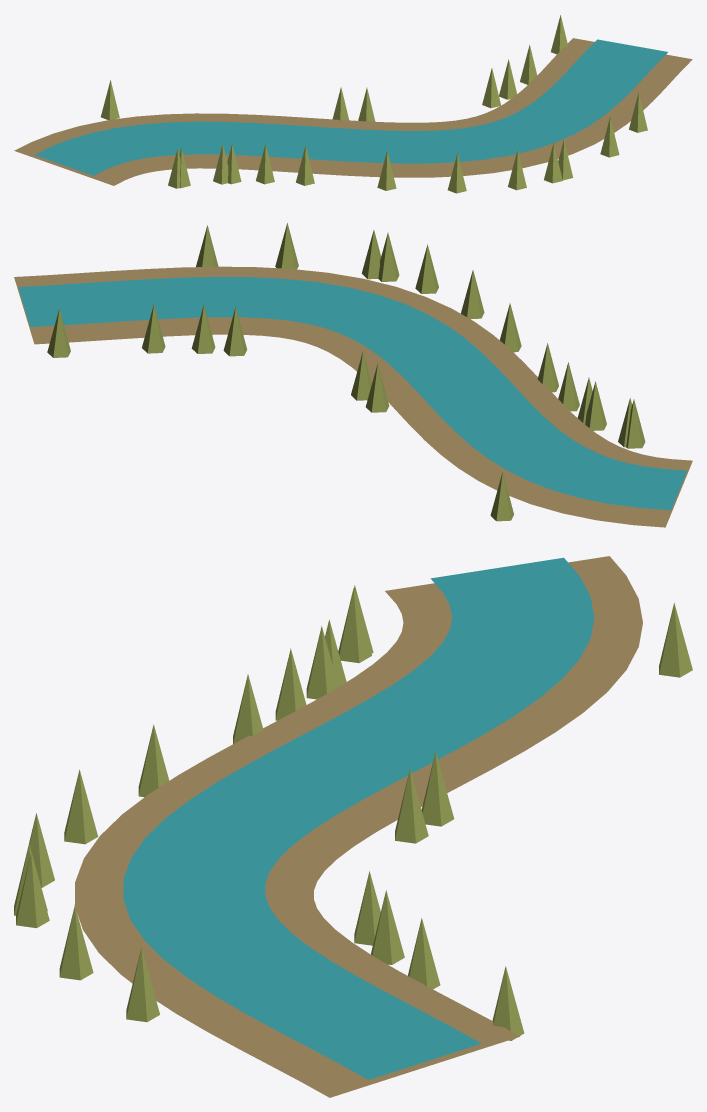
File: FEATURE_FLOODPLAINS_PLAINS_v01.fbx
The picture shows the model from 3 angles, top to bottom: view 1: azimuth 30°, elevation 25°; view 2: azimuth 150°, elevation 25°; view 3: azimuth 270°, elevation 25°; orthographic projection. The views are drawn at different scales.
Parts seen in each view (by area): view 1: River_channel.007, Alluvial_banks.007, Riparian_grass.147, Riparian_grass.142, Riparian_grass.149, Riparian_grass.153, Riparian_grass.150, Riparian_grass.159, Riparian_grass.154, Riparian_grass.156, Riparian_grass.158, Riparian_grass.146 (+9 smaller); view 2: River_channel.007, Alluvial_banks.007, Riparian_grass.152, Riparian_grass.142, Riparian_grass.151, Riparian_grass.140, Riparian_grass.144, Riparian_grass.146, Riparian_grass.159, Riparian_grass.150, Riparian_grass.153, Riparian_grass.157 (+8 smaller); view 3: River_channel.007, Alluvial_banks.007, Riparian_grass.147, Riparian_grass.150, Riparian_grass.154, Riparian_grass.146, Riparian_grass.143, Riparian_grass.145, Riparian_grass.141, Riparian_grass.144, Riparian_grass.140, Riparian_grass.155 (+7 smaller).
Part boxes in pixels (<box>): River_channel.007: <box>35,39,667,175</box>; Alluvial_banks.007: <box>14,38,692,185</box>; Riparian_grass.147: <box>600,117,619,157</box>; Riparian_grass.142: <box>482,68,500,108</box>; Riparian_grass.149: <box>256,144,274,184</box>; Riparian_grass.153: <box>544,143,562,183</box>; Riparian_grass.150: <box>447,153,466,193</box>; Riparian_grass.159: <box>508,150,526,190</box>; Riparian_grass.154: <box>629,92,647,132</box>; Riparian_grass.156: <box>296,145,314,185</box>; Riparian_grass.158: <box>377,150,396,190</box>; Riparian_grass.146: <box>101,80,119,119</box>; River_channel.007: <box>18,277,686,510</box>; Alluvial_banks.007: <box>14,266,692,527</box>; Riparian_grass.152: <box>142,304,165,353</box>; Riparian_grass.142: <box>223,306,247,356</box>; Riparian_grass.151: <box>47,308,70,357</box>; Riparian_grass.140: <box>191,305,215,353</box>; Riparian_grass.144: <box>365,363,389,412</box>; Riparian_grass.146: <box>490,472,513,521</box>; Riparian_grass.159: <box>415,244,438,293</box>; Riparian_grass.150: <box>461,270,484,319</box>; Riparian_grass.153: <box>378,232,399,281</box>; Riparian_grass.157: <box>585,381,606,430</box>; River_channel.007: <box>123,557,594,1079</box>; Alluvial_banks.007: <box>74,556,642,1097</box>; Riparian_grass.147: <box>59,905,93,980</box>; Riparian_grass.150: <box>64,769,98,844</box>; Riparian_grass.154: <box>126,947,159,1022</box>; Riparian_grass.146: <box>659,603,692,677</box>; Riparian_grass.143: <box>16,853,49,928</box>; Riparian_grass.145: <box>395,769,428,843</box>; Riparian_grass.141: <box>338,588,371,662</box>; Riparian_grass.144: <box>421,752,454,826</box>; Riparian_grass.140: <box>371,890,404,964</box>; Riparian_grass.155: <box>306,626,338,699</box>.
Bounding box in the file's own units: 171 × 10 × 90.66.
